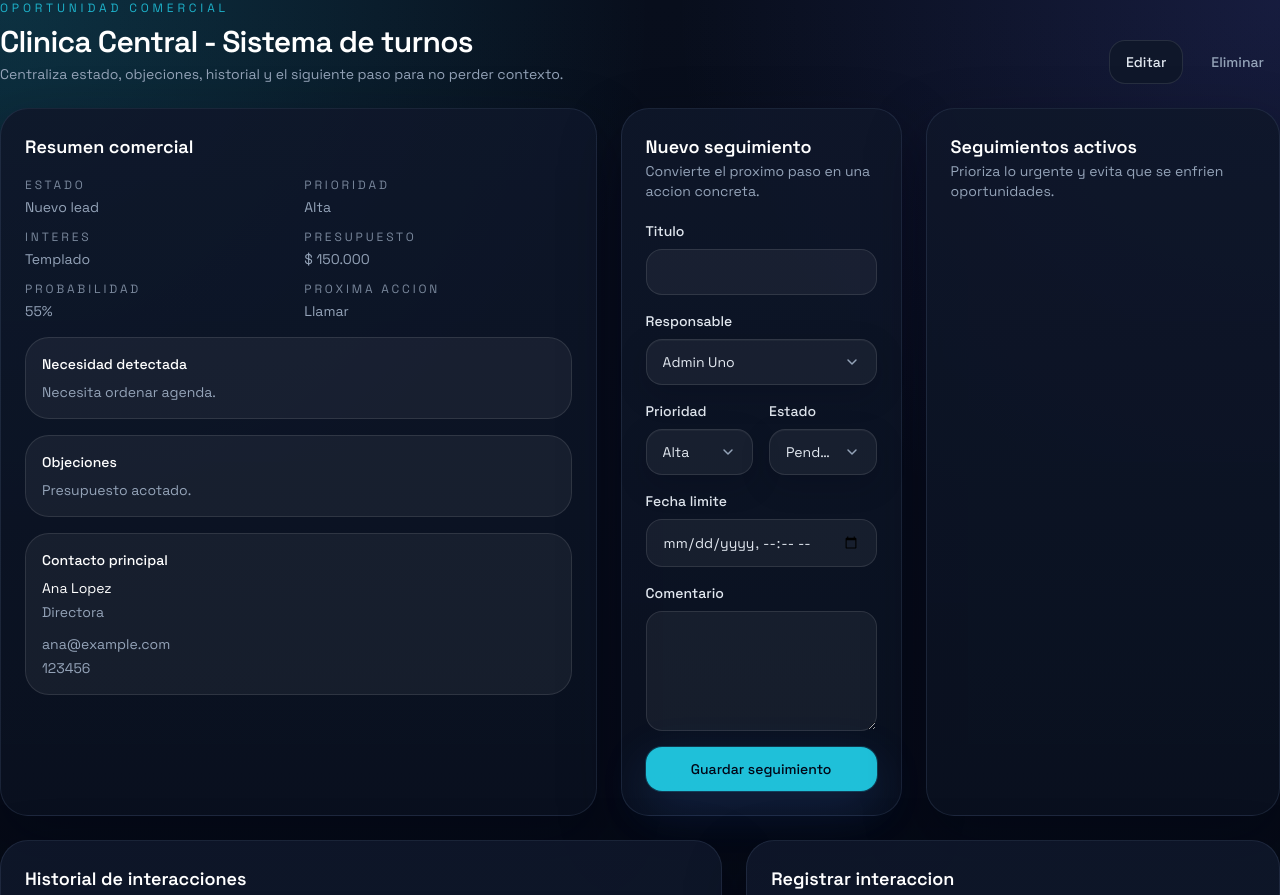
OpportunityDetailPage › muestra el error inline si la eliminacion falla
The image size is (1280, 895).
Expected: the heading "Clinica Central - Sistema de turnos" is shown, [0, 22, 473, 61]
Click the button "Eliminar": [1238, 62] box [1195, 40, 1279, 84]
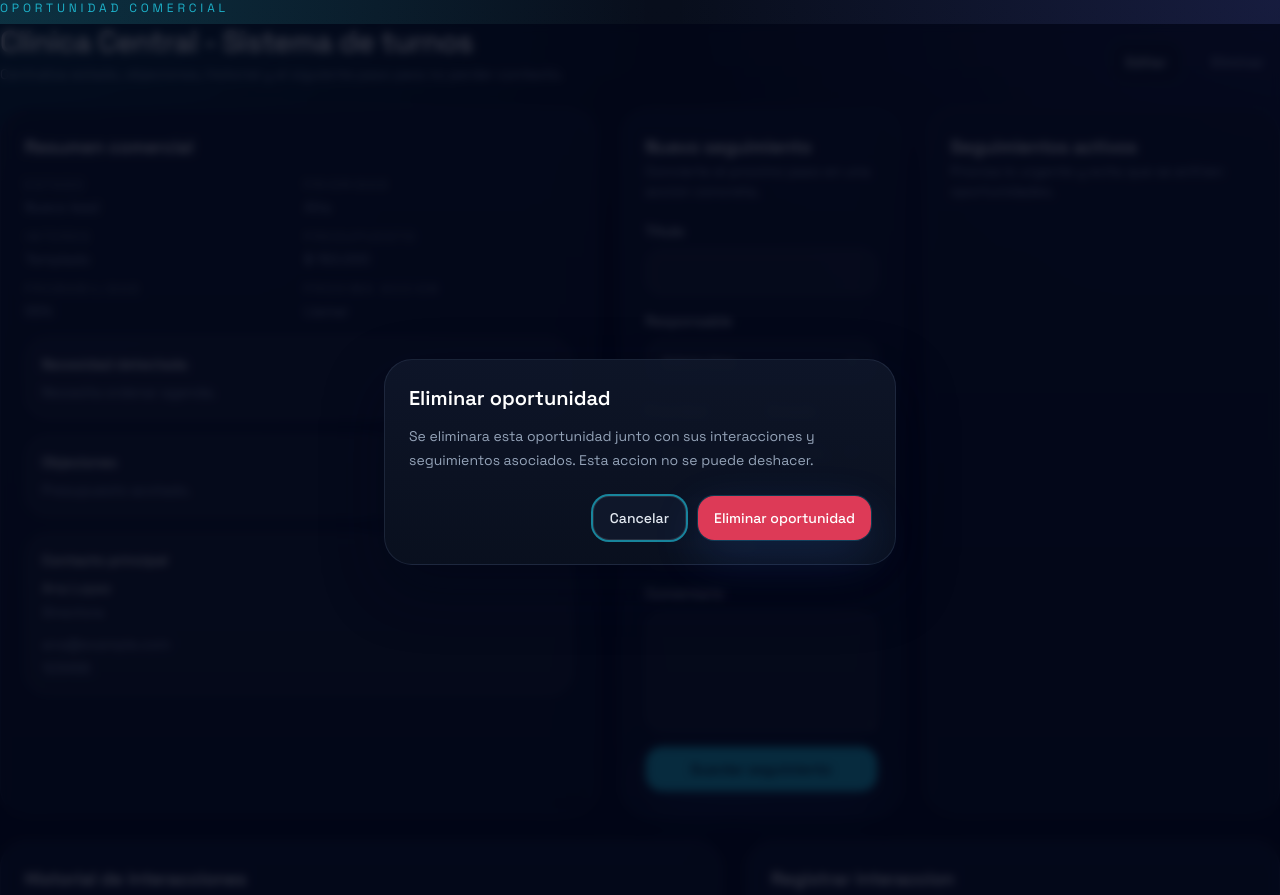
Click the button "Eliminar oportunidad": [785, 518] box [698, 496, 871, 540]
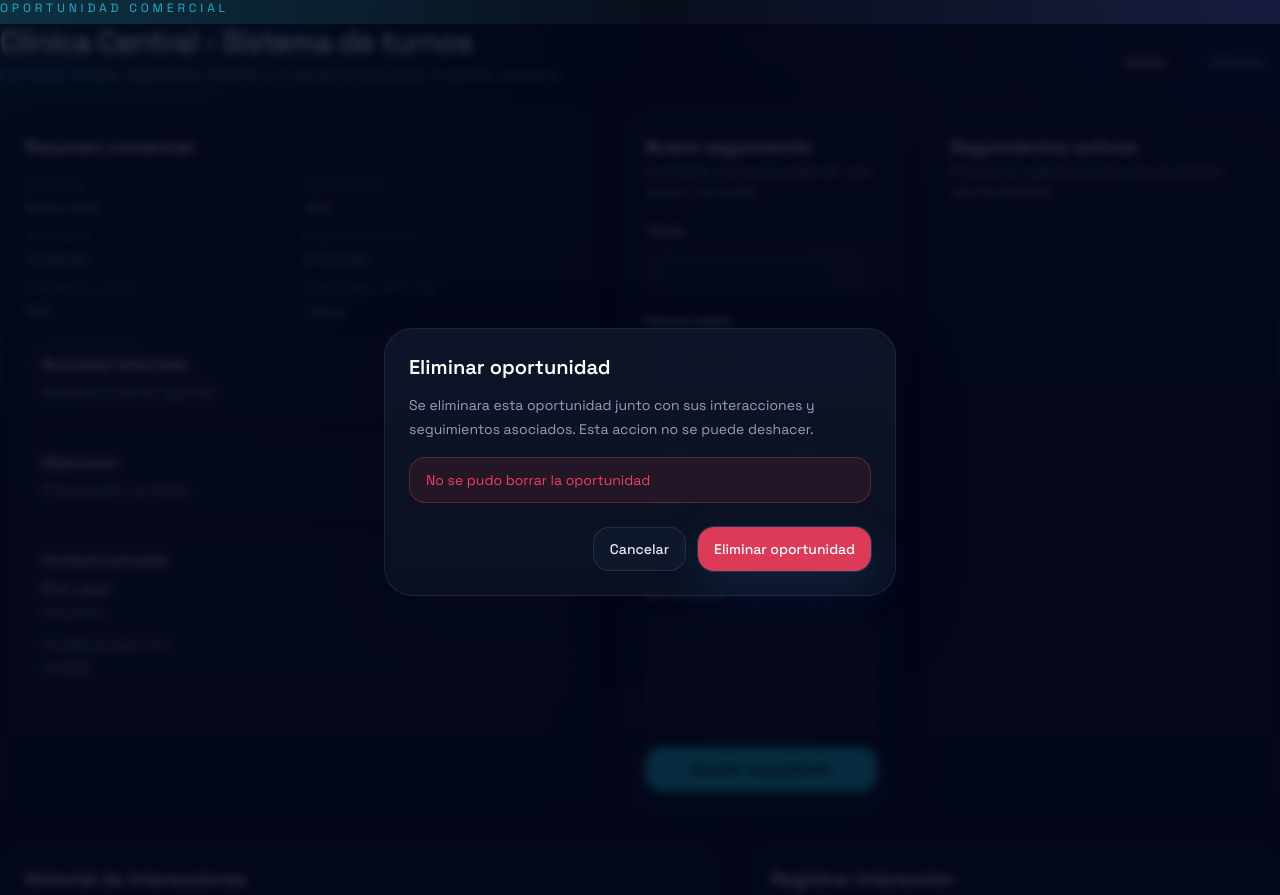
Expected: the text "No se pudo borrar la oportunidad" is shown, [409, 457, 871, 503]
